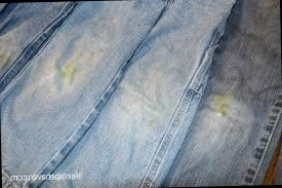earth: (59, 62, 77, 83), (213, 96, 229, 119)
